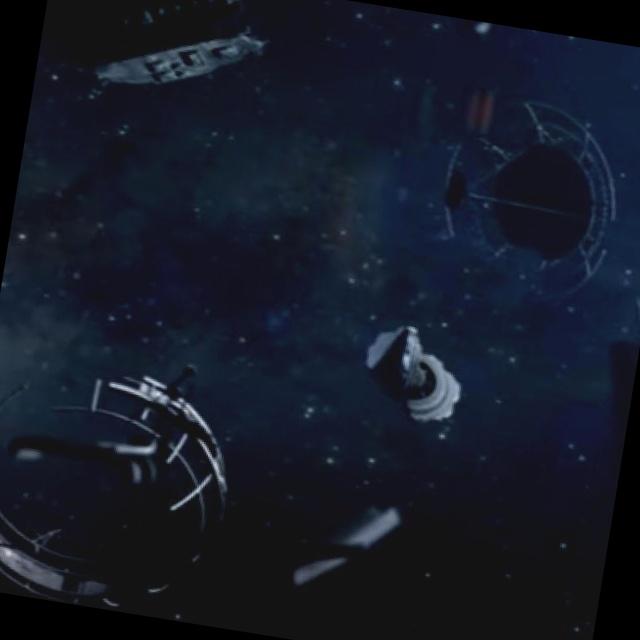large_debris: (0, 324, 273, 630), (402, 52, 640, 318), (32, 0, 306, 135)
medium_debris: (279, 492, 407, 608), (357, 321, 471, 429)
